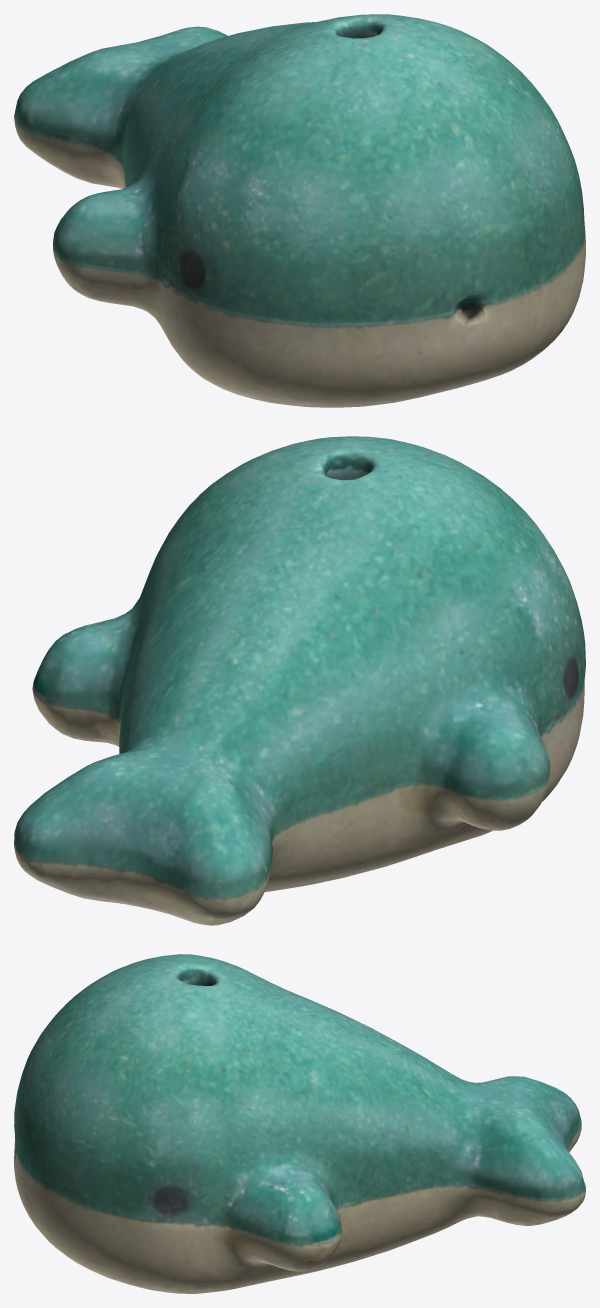
The model's file is WHALE_WHISTLE_6PCS_SET.glb.
3 renders of one model, top to bottom at view 1: azimuth 30°, elevation 25°; view 2: azimuth 150°, elevation 25°; view 3: azimuth 270°, elevation 25°, orthographic. The views are drawn at different scales.
Visible parts, largest first — view 1: WHALE_WHISTLE_6PCS_SET; view 2: WHALE_WHISTLE_6PCS_SET; view 3: WHALE_WHISTLE_6PCS_SET.
Part boxes in pixels (box(x1,y1,x2,y2)): WHALE_WHISTLE_6PCS_SET: box(14, 14, 585, 407); WHALE_WHISTLE_6PCS_SET: box(14, 436, 585, 925); WHALE_WHISTLE_6PCS_SET: box(14, 954, 585, 1293).
Bounding box in the file's own units: 0.0583 × 0.038 × 0.0733.
Materials: 1 (1 with a texture image).
